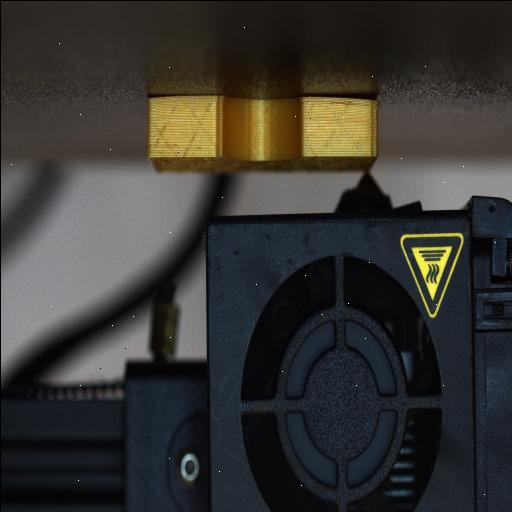warp: (326, 88, 386, 112), (144, 90, 166, 106)
